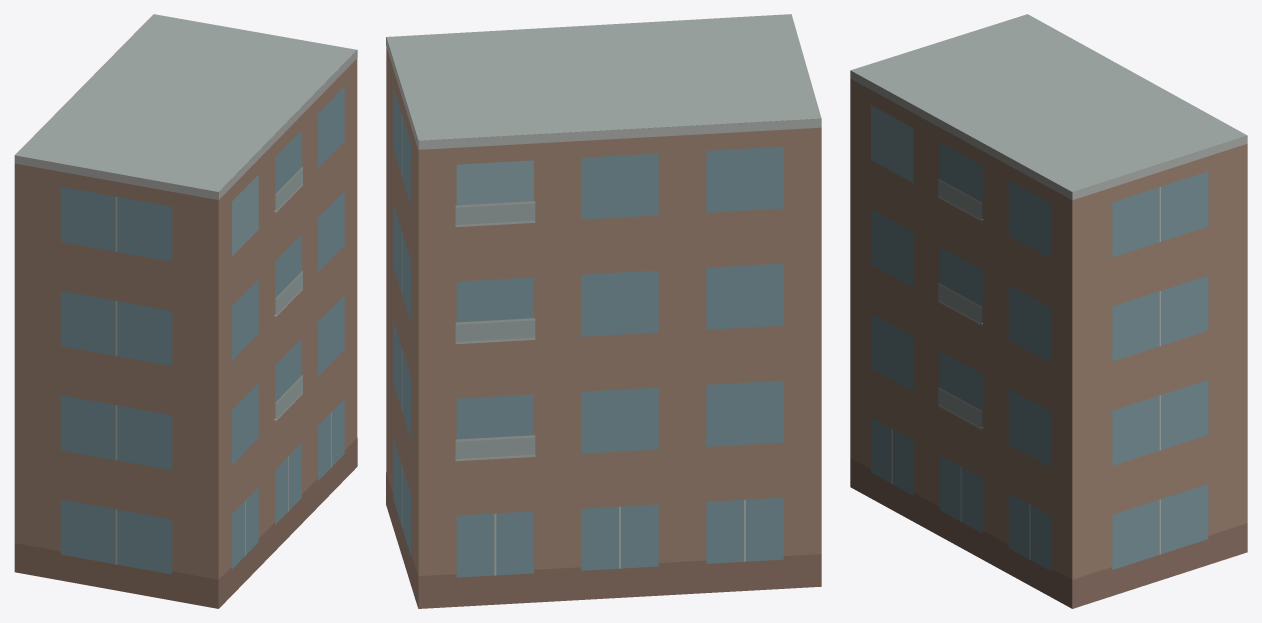
File: survey-upis-32536320.glb
3 renders of one model, left to right at view 1: azimuth 30°, elevation 25°; view 2: azimuth 150°, elevation 25°; view 3: azimuth 270°, elevation 25°, orthographic. The views are drawn at different scales.
Parts seen in each view (by area): view 1: survey-upis-32536320.tmp; view 2: survey-upis-32536320.tmp; view 3: survey-upis-32536320.tmp.
Part boxes in pixels (x1,y1,x2,y2): survey-upis-32536320.tmp: (14, 14, 357, 608); survey-upis-32536320.tmp: (386, 14, 821, 608); survey-upis-32536320.tmp: (850, 14, 1247, 608).
Bounding box in the file's own units: 11.47 × 12.5 × 10.81.
